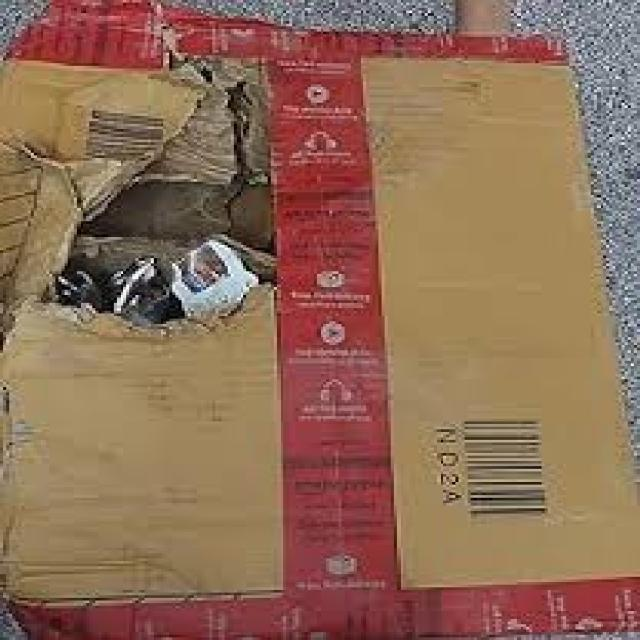tear: (39, 56, 283, 336)
